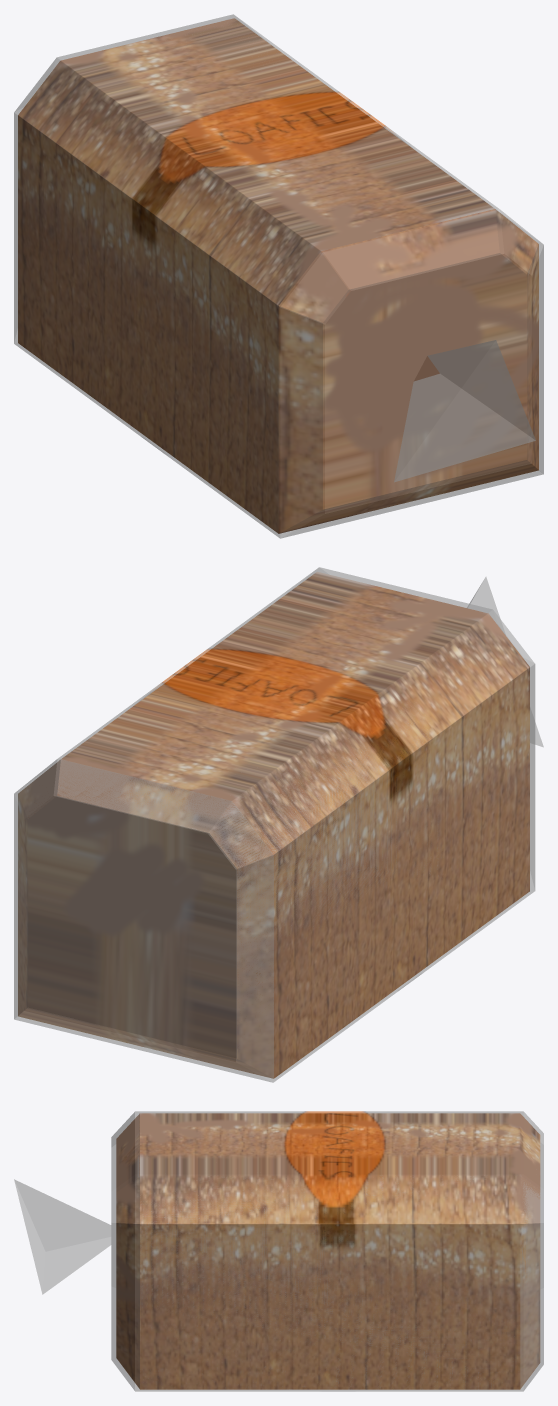
File: LoafiesTextured.fbx
3 renders of one model, top to bottom at view 1: azimuth 30°, elevation 25°; view 2: azimuth 150°, elevation 25°; view 3: azimuth 270°, elevation 25°, orthographic. The views are drawn at different scales.
Parts seen in each view (by area): view 1: Cube.006, jeff; view 2: Cube.006, jeff; view 3: Cube.006, jeff.
Boxes of the visible parts, x1,y1,x2,y2 form: Cube.006: (14, 14, 543, 538); jeff: (18, 18, 538, 533); Cube.006: (14, 567, 543, 1082); jeff: (18, 572, 529, 1078); Cube.006: (14, 1111, 543, 1391); jeff: (116, 1113, 540, 1389).
Bounding box in the file's own units: 140 × 140 × 333.
